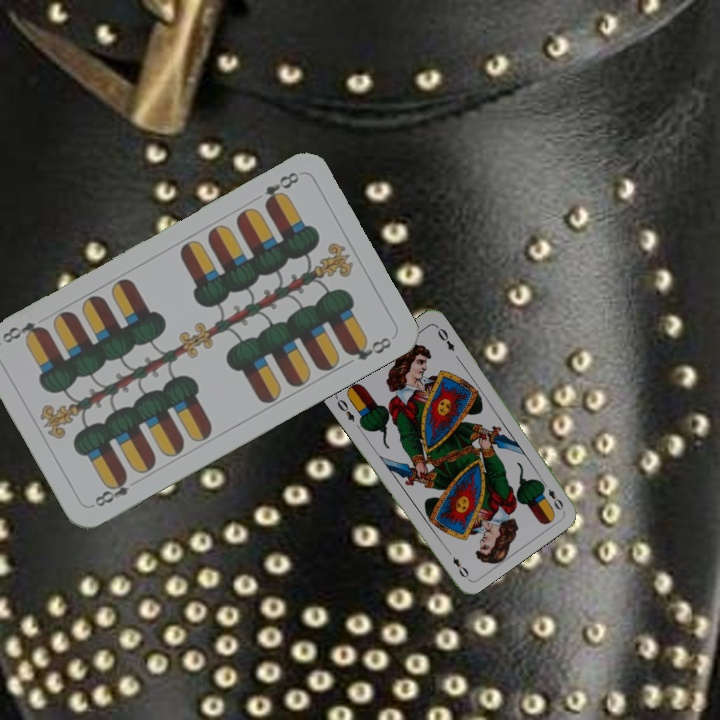E8: (260, 168, 302, 210), (91, 471, 133, 510)
EO: (537, 477, 566, 513), (331, 393, 357, 424)
